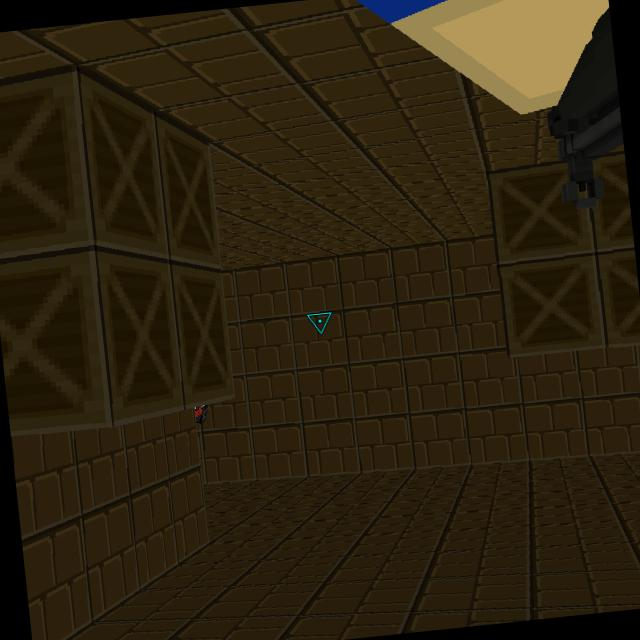enemy: (193, 404, 208, 424)
